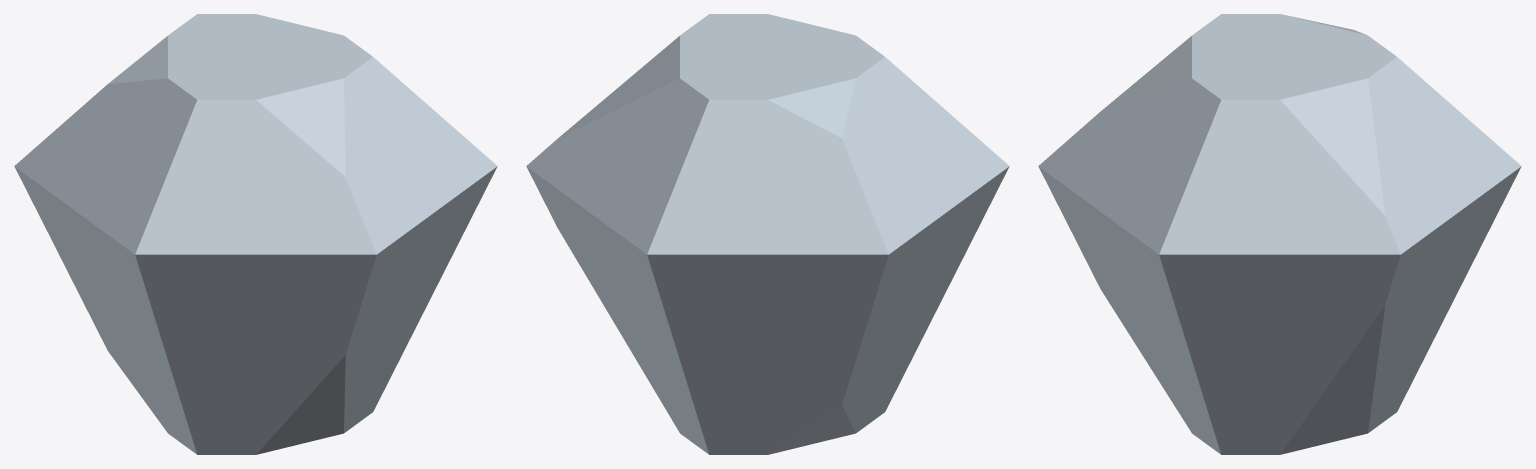
The model's file is gems_diamond_original.obj.
The picture shows the model from 3 angles, left to right: view 1: azimuth 30°, elevation 25°; view 2: azimuth 150°, elevation 25°; view 3: azimuth 270°, elevation 25°; orthographic projection.
Visible parts, largest first — view 1: mergedBlocks; view 2: mergedBlocks; view 3: mergedBlocks.
Part boxes in pixels (x1,y1,x2,y2): mergedBlocks: (14,14,497,454); mergedBlocks: (526,14,1009,454); mergedBlocks: (1038,14,1521,454).
Size of the model in its own units: 1 by 0.936 by 1.15.
